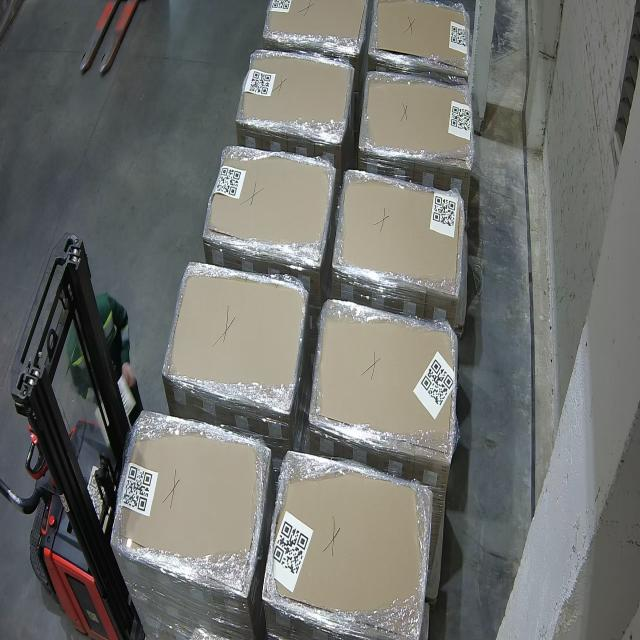pallet: (260, 444, 431, 640), (108, 417, 272, 605), (308, 298, 460, 457), (164, 262, 308, 412), (330, 169, 464, 295), (206, 149, 336, 267), (359, 73, 480, 171), (236, 47, 354, 145), (371, 0, 470, 80), (260, 0, 370, 52)
